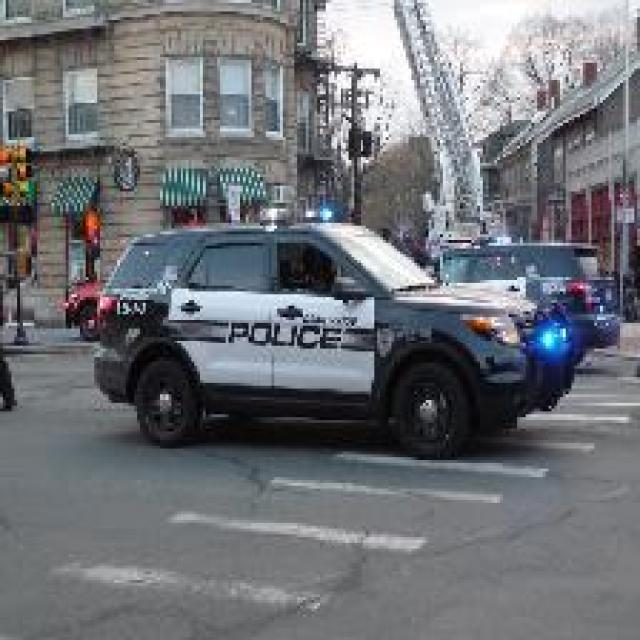Police-car: (89, 214, 577, 457)
